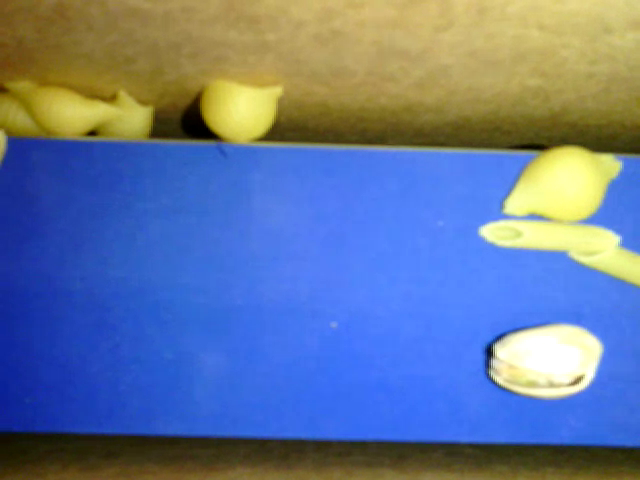penne: (477, 220, 621, 254), (567, 242, 639, 292)
shell: (502, 140, 620, 222), (1, 80, 126, 137), (198, 76, 283, 143), (90, 89, 157, 141), (1, 92, 50, 134)
